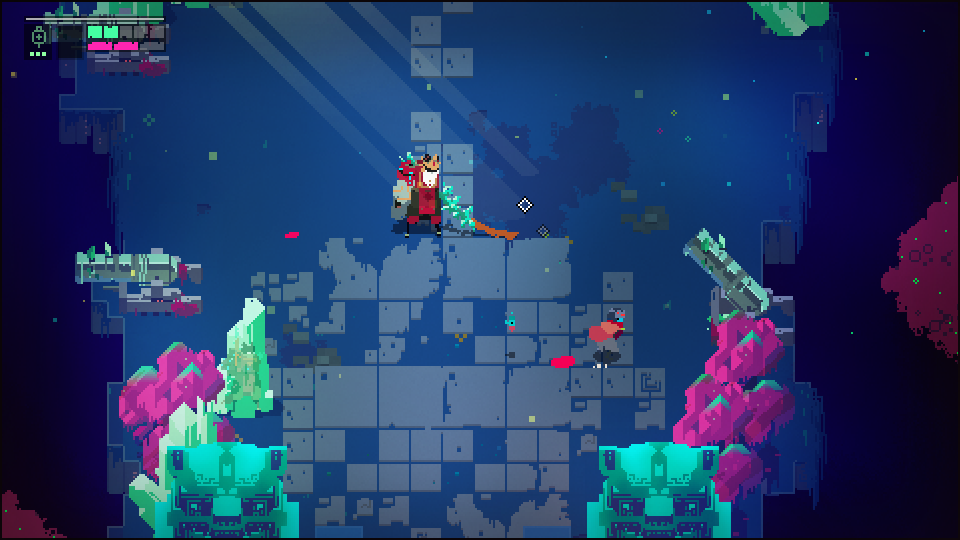hanged_man: (390, 147, 482, 245)
player: (581, 307, 629, 373)
